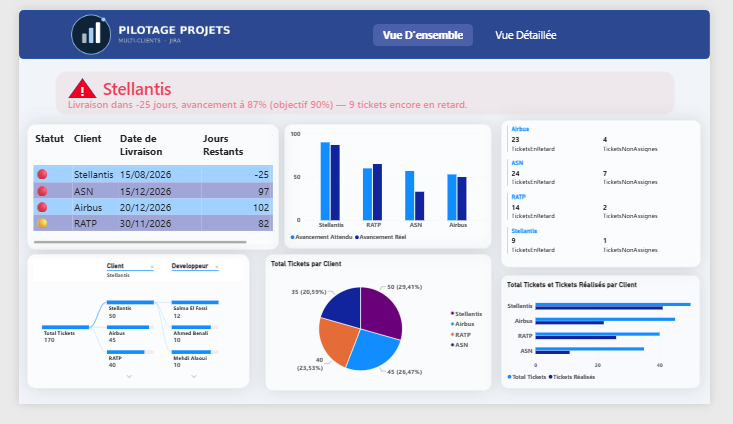

What the dashboard file says about the page in this screenshot:
{"tool":"powerbi","page":{"name":"Vue D'ensemble","canvas":[1920,1095],"ordinal":0},"visuals":[{"type":"shape","box":[0,0,1919.4,136.1],"z":0},{"type":"image","box":[0,0,736.1,136.1],"z":1000},{"type":"pageNavigator","box":[982.5,40,565,62.5],"z":2000},{"type":"shape","box":[86.1,155.6,1750,150],"z":3000},{"type":"cardVisual","fields":{"Data":["Clients.ClientCritique"]},"box":[217.1,175.6,250.6,84.2],"z":4000},{"type":"cardVisual","fields":{"Data":["Clients.TexteAlerteClient"]},"box":[119.4,230.6,1749.6,62.6],"z":5000},{"type":"clusteredColumnChart","fields":{"Category":["Clients.NomClient"],"Y":["Sum(Clients.AvancementAttendu)","Sum(Clients.AvancementReel)"]},"box":[737.2,316.3,576.7,346.5],"z":6000},{"type":"pieChart","title":"Total Tickets par Client","fields":{"Category":["Clients.NomClient"],"Y":["Tickets.TotalTicketsClient"]},"box":[682.5,677.5,630,380],"z":7000},{"type":"clusteredBarChart","title":"Total Tickets et Tickets Réalisés par Client","fields":{"Category":["Clients.NomClient"],"Y":["Tickets.TotalTicketsClient","Tickets.TicketsRealises"]},"box":[1340,735,552.5,315],"z":8000},{"type":"tableEx","fields":{"Values":["Clients.StatutClient","Clients.NomClient","Clients.DateLivraison","Clients.JoursRestants","Clients.ScoreTri"]},"box":[23.3,316.3,700,350],"z":9000},{"type":"multiRowCard","fields":{"Values":["Clients.NomClient","Tickets.TicketsEnRetard","Tickets.TicketsNonAssignes"]},"box":[1339.4,306.1,554.5,409.1],"z":10000},{"type":"shape","box":[135.3,188.2,80.5,56.1],"z":11000},{"type":"textbox","box":[161.5,201.9,80.8,253.8],"z":12000},{"type":"decompositionTreeVisual","fields":{"Analyze":["Tickets.TotalTicketsClient"],"ExplainBy":["Clients.NomClient","Developpeurs.NomDeveloppeur"]},"box":[22.5,677.5,617.5,372.5],"z":13000}]}

Visuals, with their boxes in screenshot pixels (x1, y1, x2, y2), scaled from the page's 1920x1095 canvas onto the 733x424 screenshot:
shape: Rect(0, 0, 732, 53)
image: Rect(0, 0, 281, 53)
pageNavigator: Rect(375, 15, 591, 40)
shape: Rect(33, 60, 701, 118)
cardVisual - Clients.ClientCritique: Rect(83, 68, 179, 101)
cardVisual - Clients.TexteAlerteClient: Rect(46, 89, 714, 114)
clusteredColumnChart - Clients.NomClient x Sum(Clients.AvancementAttendu): Rect(281, 122, 502, 257)
"Total Tickets par Client" pieChart: Rect(261, 262, 501, 409)
"Total Tickets et Tickets Réalisés par Client" clusteredBarChart: Rect(512, 285, 723, 407)
tableEx - Clients.StatutClient x Clients.NomClient: Rect(9, 122, 276, 258)
multiRowCard - Clients.NomClient x Tickets.TicketsEnRetard: Rect(511, 119, 723, 277)
shape: Rect(52, 73, 82, 95)
textbox: Rect(62, 78, 93, 176)
decompositionTreeVisual - Tickets.TotalTicketsClient x Clients.NomClient: Rect(9, 262, 244, 407)
